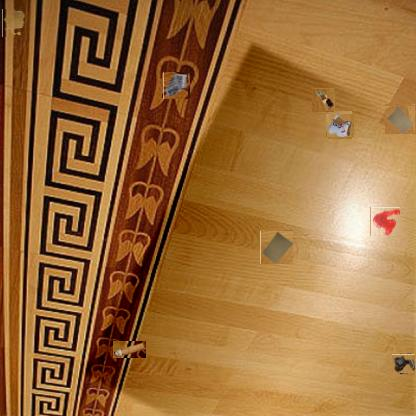dirty: (260, 230, 293, 264), (386, 104, 416, 134), (163, 72, 189, 99), (327, 112, 353, 138), (112, 340, 146, 358), (312, 89, 334, 112), (394, 352, 416, 375)
liquid: (370, 207, 400, 236), (2, 9, 25, 37)
